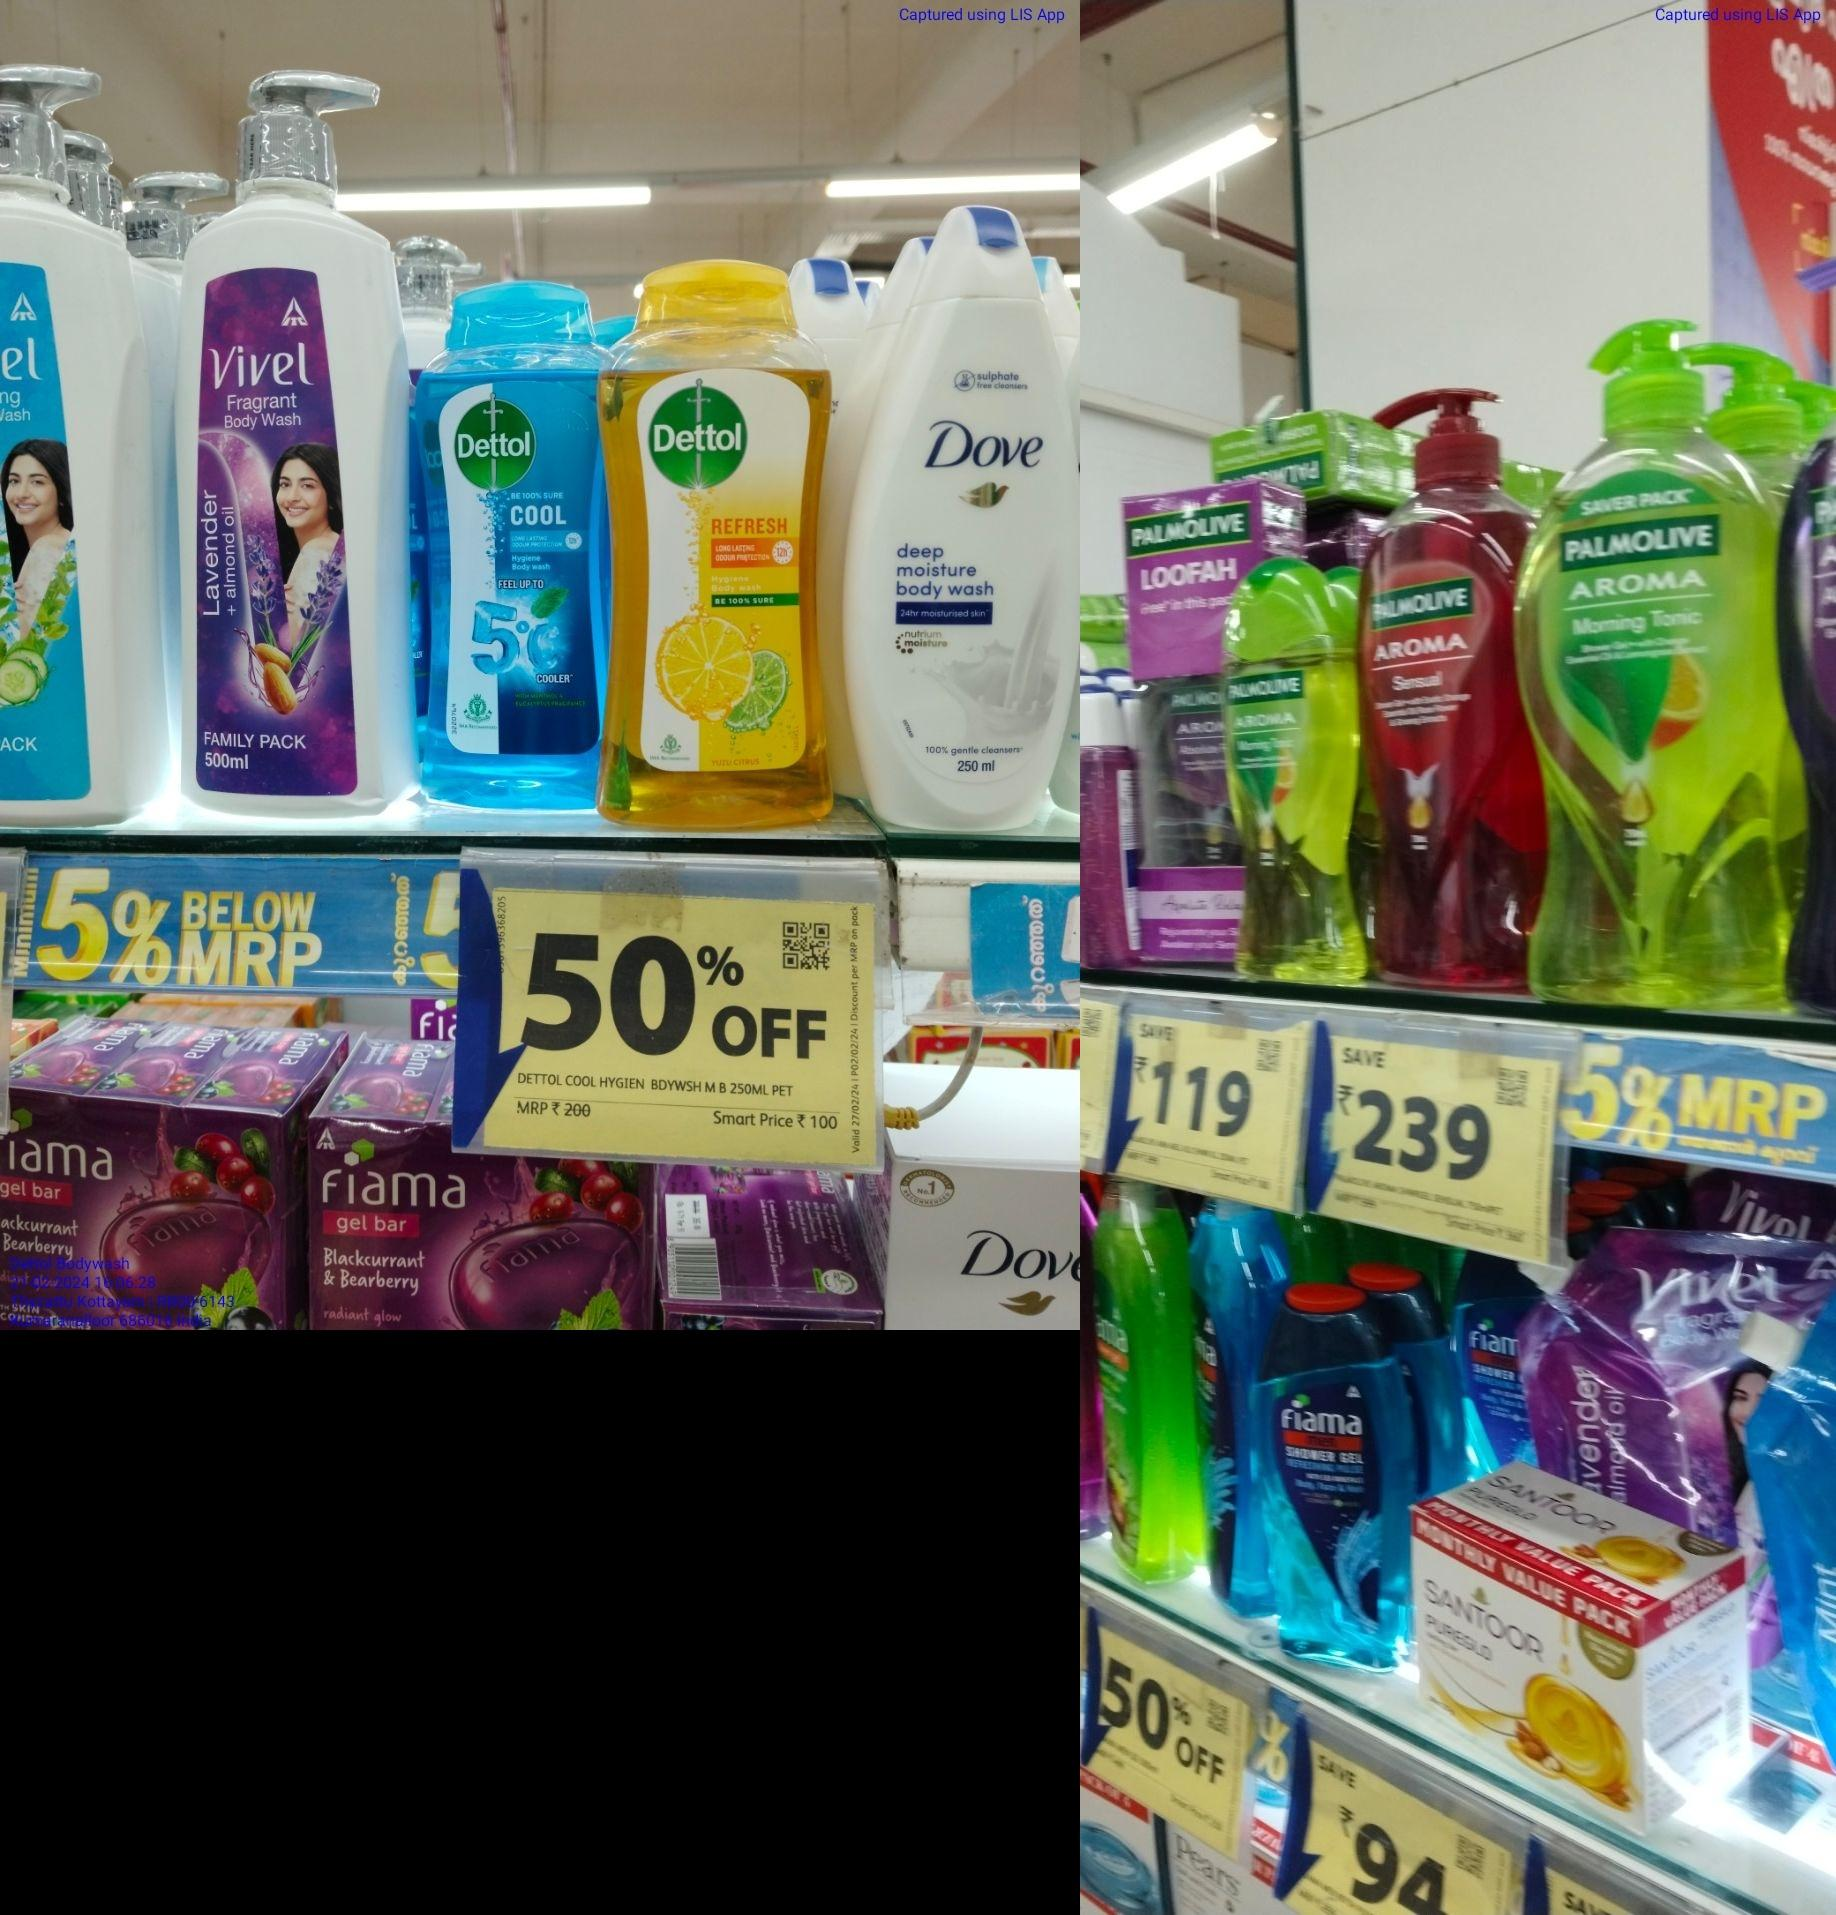Dettol_Bodywash_Cool: (410, 270, 603, 819)
Dettol_Bodywash_Refresh: (605, 248, 831, 836)
Dove_Deep_Moisture_Body_Wash_250ML: (841, 195, 1068, 833)
